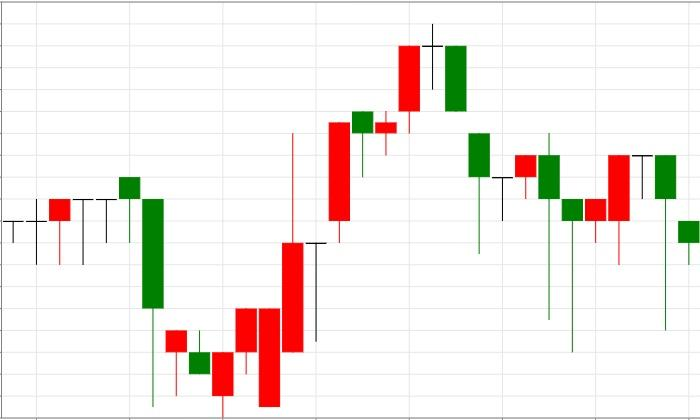evening_star_fall: (211, 24, 467, 416), (561, 154, 676, 352)
hammer_rise: (422, 24, 584, 352)
hanging_man_fall: (1, 177, 141, 265)
